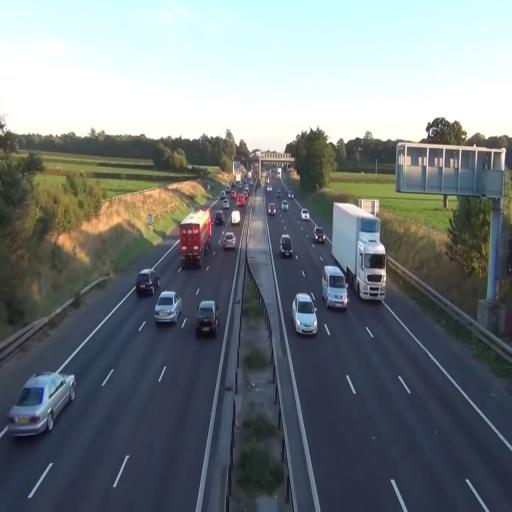vehicle: (332, 200, 387, 302), (6, 371, 76, 437), (178, 209, 210, 267), (178, 210, 211, 266), (322, 265, 349, 310), (292, 292, 318, 335), (154, 290, 181, 326), (195, 300, 219, 336), (135, 267, 160, 298), (280, 234, 294, 258), (220, 230, 236, 251), (316, 228, 328, 243), (300, 210, 310, 220)
